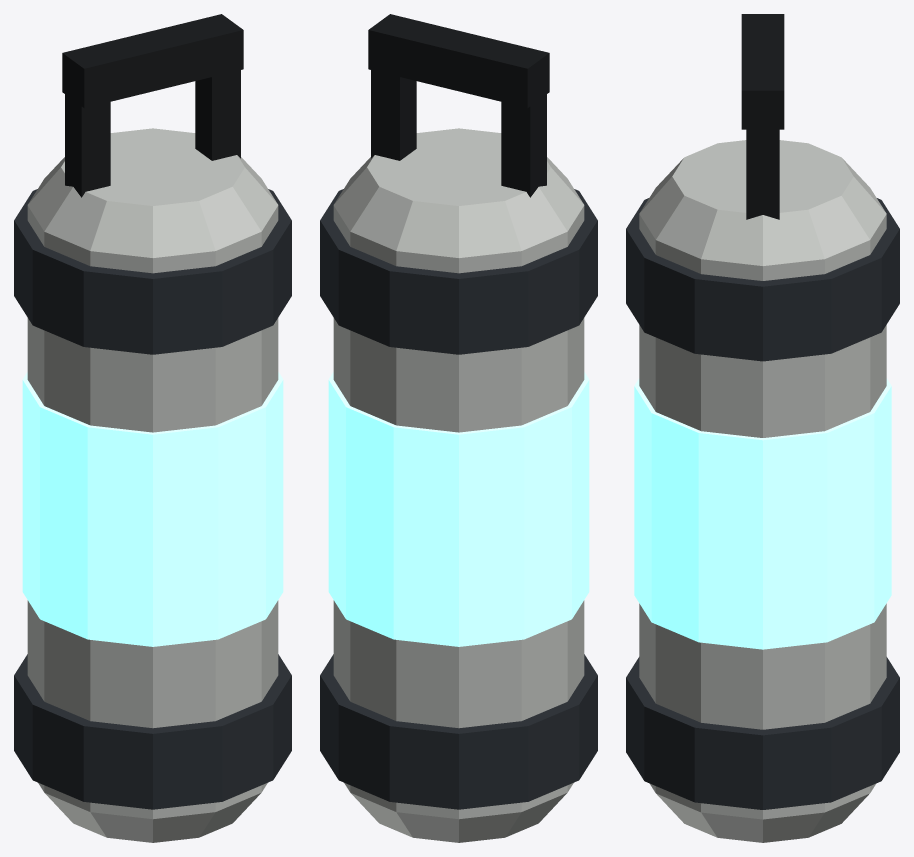
File: canister_antimatter.glb
3 views of the same model, side by side, from view 1: azimuth 30°, elevation 25°; view 2: azimuth 150°, elevation 25°; view 3: azimuth 270°, elevation 25° (orthographic).
Visible parts, largest first — view 1: canister_antimatter; view 2: canister_antimatter; view 3: canister_antimatter.
Part boxes in pixels (x1=…): canister_antimatter: x1=14, y1=14, x2=291, y2=842; canister_antimatter: x1=320, y1=14, x2=597, y2=842; canister_antimatter: x1=626, y1=14, x2=899, y2=842.
Bounding box in the file's own units: 0.166 × 0.503 × 0.166.
